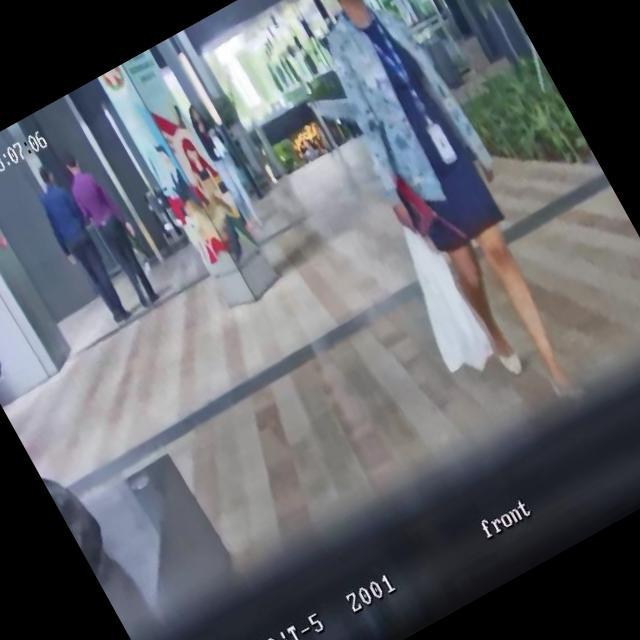person: (267, 0, 614, 431), (49, 139, 170, 316), (21, 159, 139, 333), (182, 98, 272, 235)
